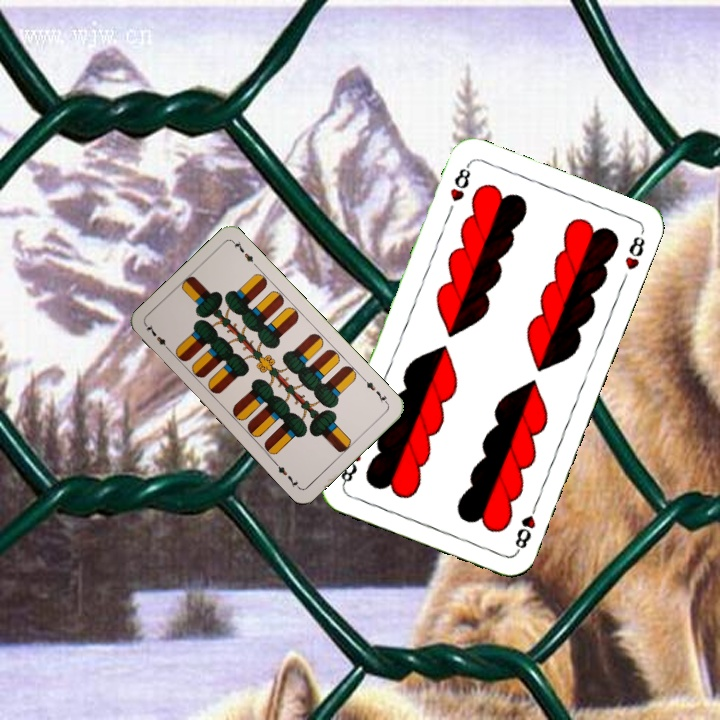E7: (359, 374, 391, 407), (142, 320, 173, 354)
H8: (511, 498, 541, 555), (446, 160, 474, 205)
